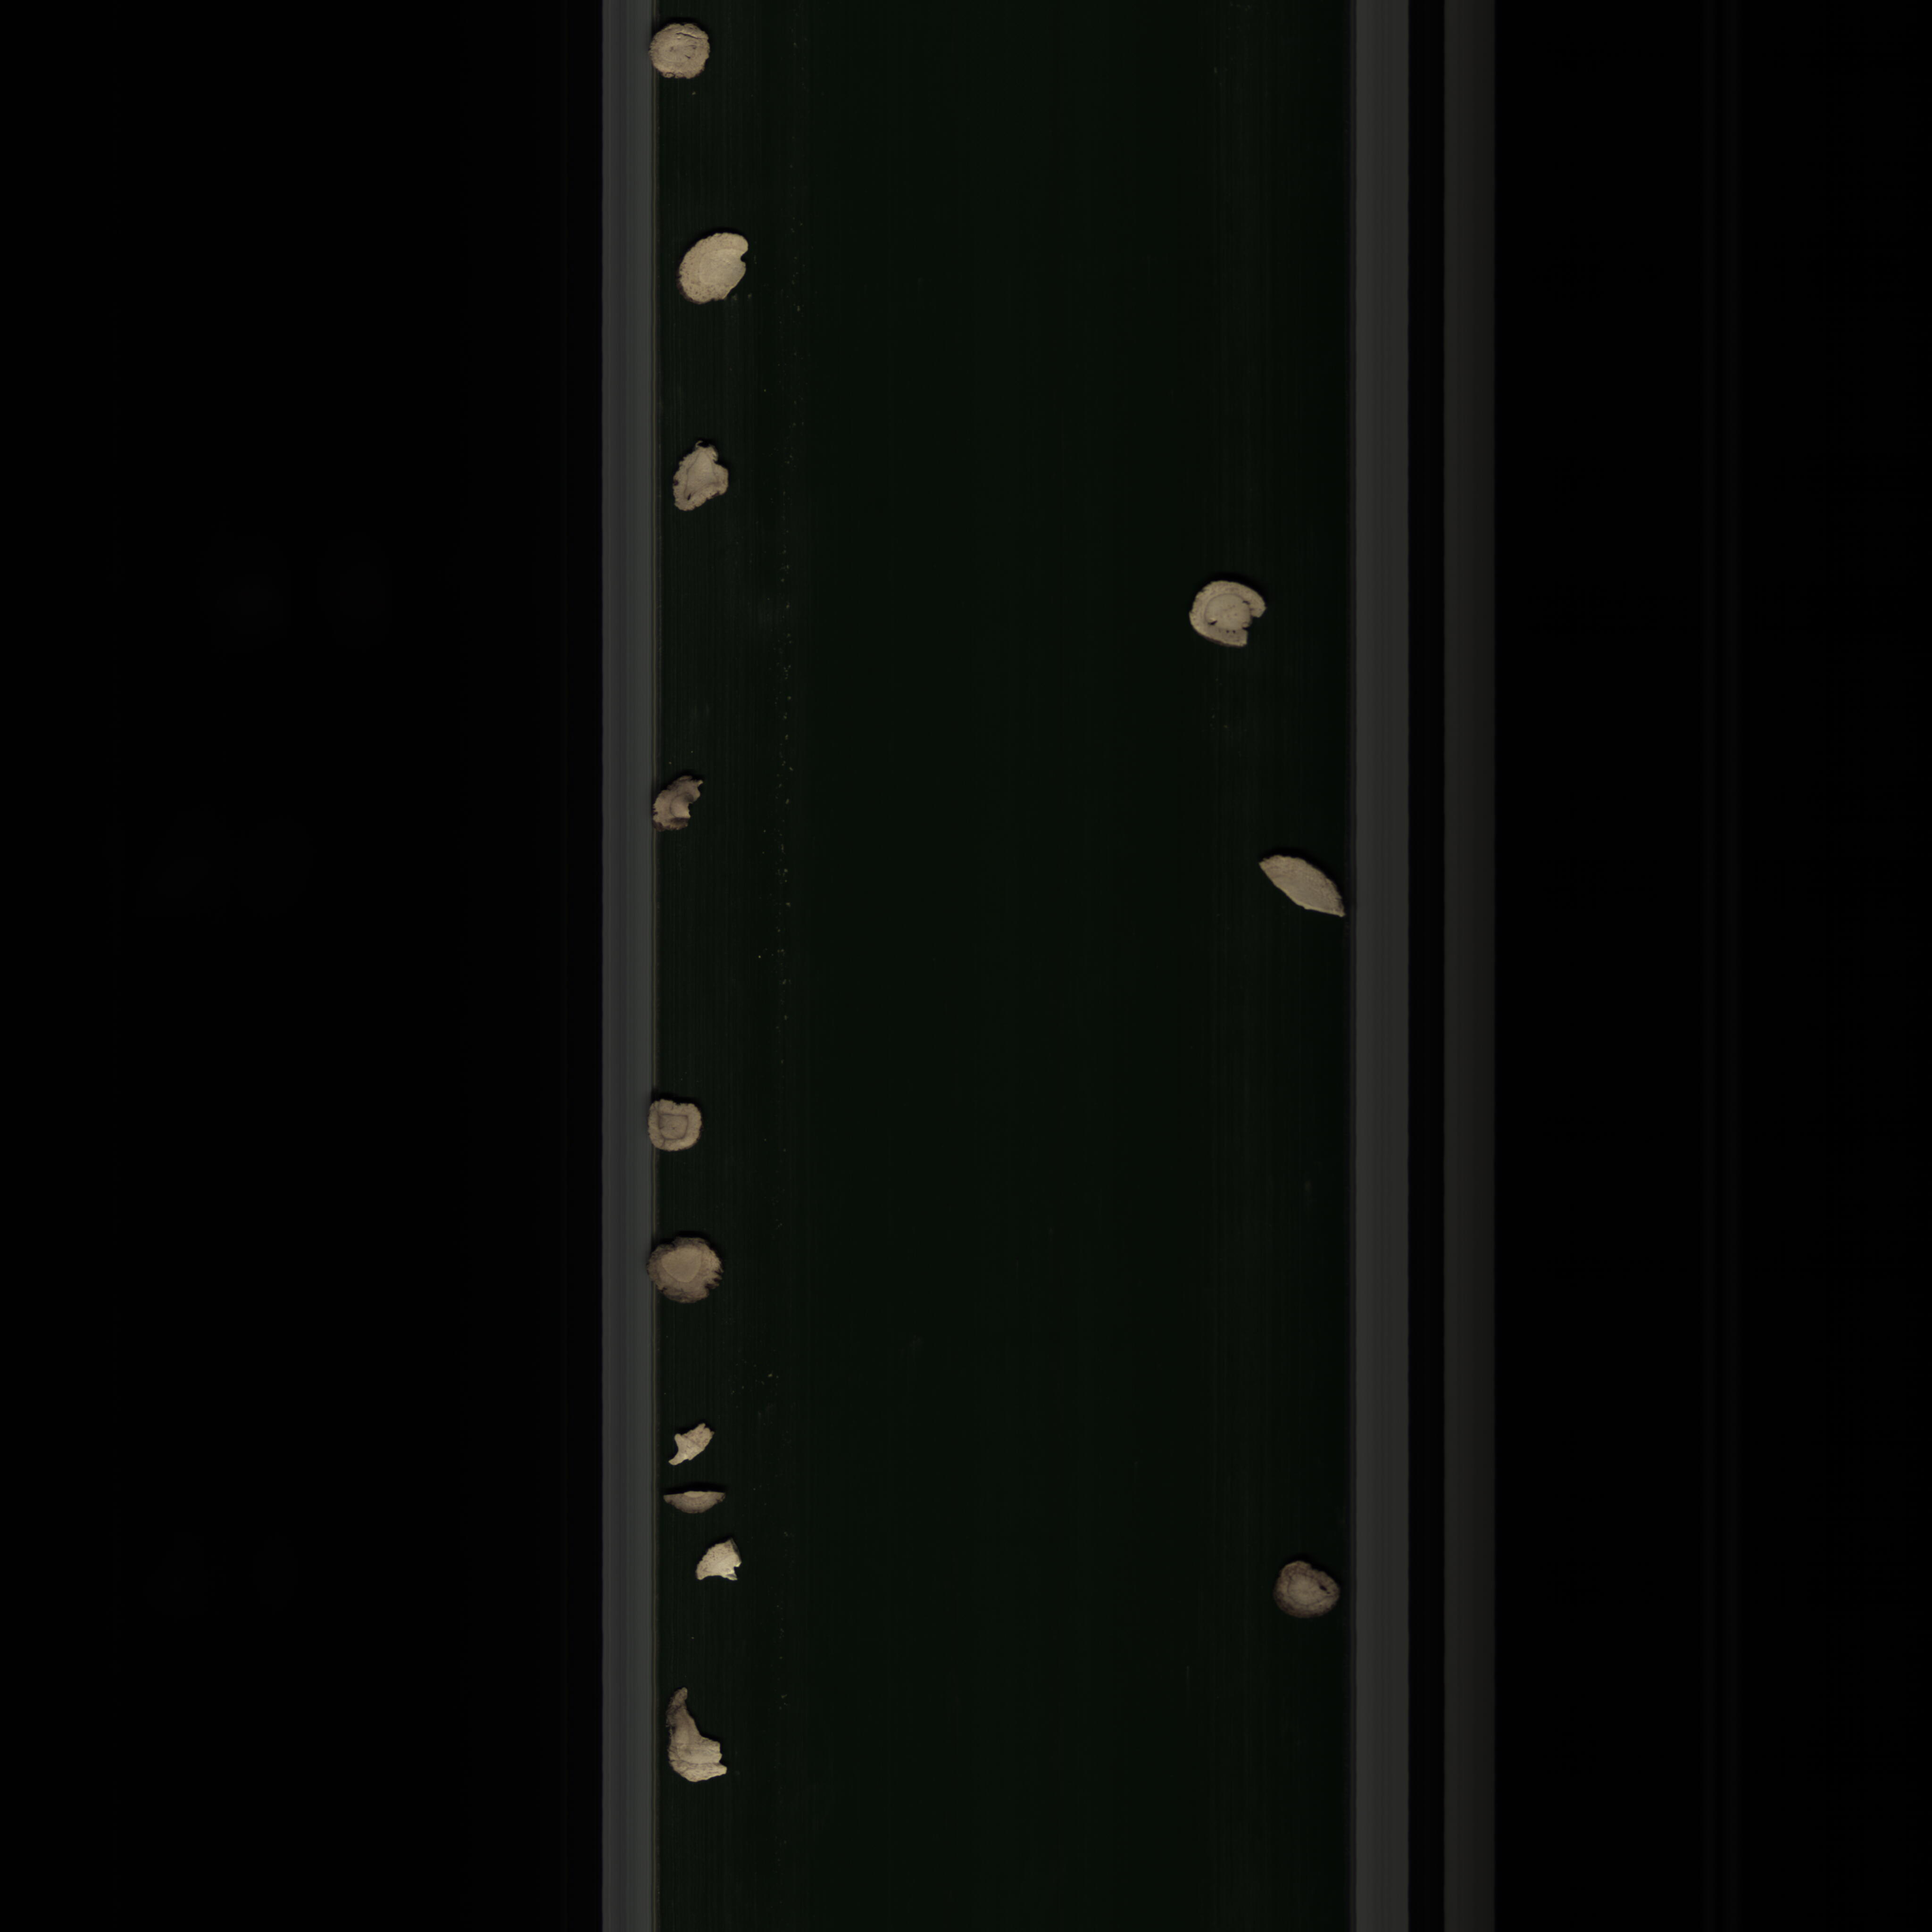bark: (656, 1483, 731, 1522)
debris: (660, 1683, 732, 1796), (1184, 566, 1274, 656), (674, 225, 752, 317), (1256, 849, 1345, 927), (665, 439, 736, 517), (692, 1536, 748, 1592), (663, 1421, 718, 1467)
moldy: (642, 1233, 732, 1311), (1270, 1550, 1345, 1628), (635, 19, 718, 88), (649, 771, 715, 842)
